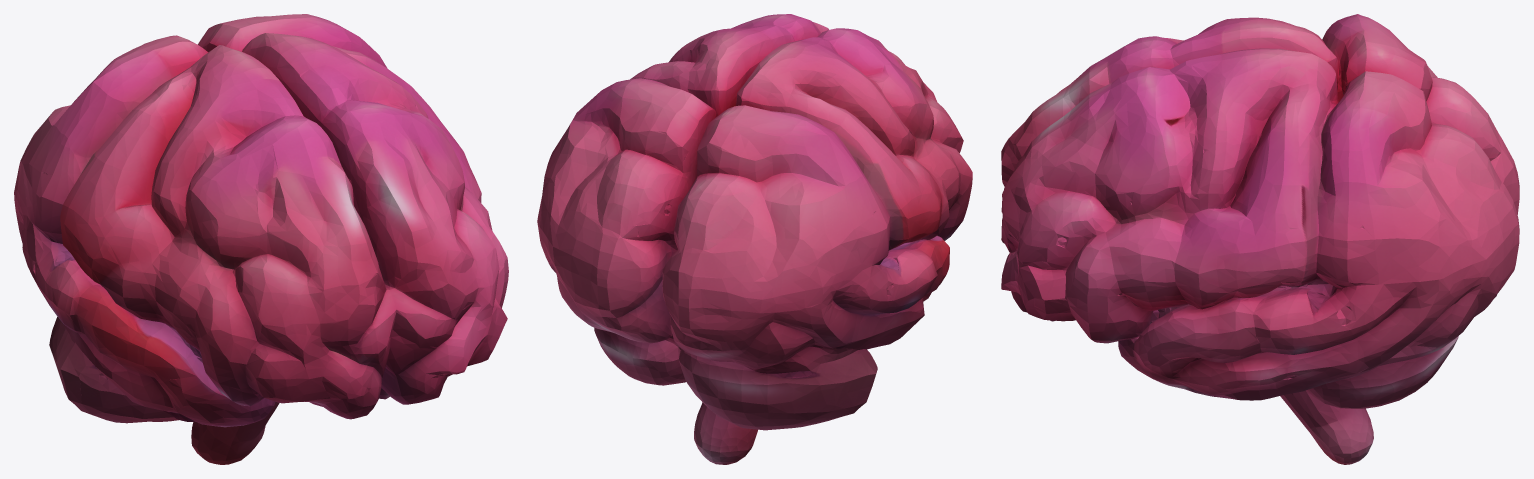
File: brain2.glb
3 renders of one model, left to right at view 1: azimuth 30°, elevation 25°; view 2: azimuth 150°, elevation 25°; view 3: azimuth 270°, elevation 25°, orthographic. The views are drawn at different scales.
Visible parts, largest first — view 1: geometry_0; view 2: geometry_0; view 3: geometry_0.
Part boxes in pixels (<box>): geometry_0: <box>14,14,508,464</box>; geometry_0: <box>537,14,972,464</box>; geometry_0: <box>1001,14,1519,464</box>.
Size of the model in its own units: 0.8586 by 0.9028 by 0.9999.
1 material, 1 textured.
